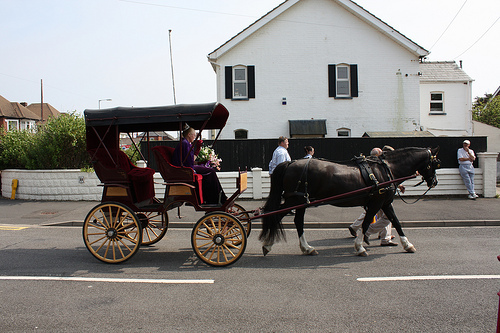horse: (257, 145, 441, 258)
